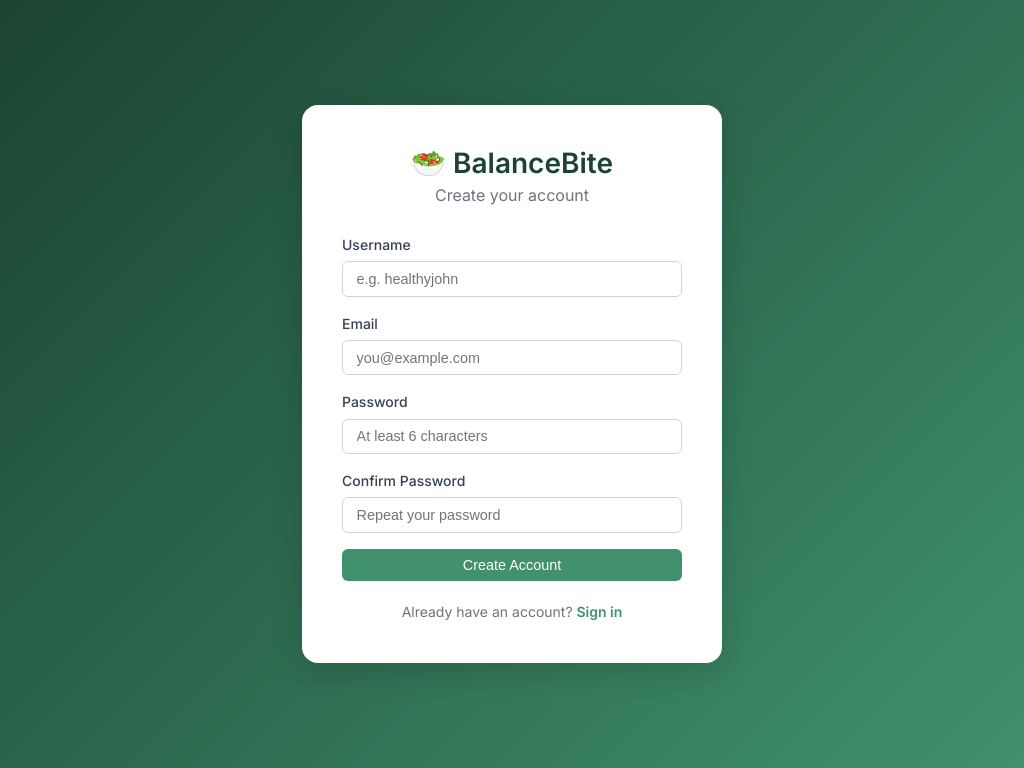
Test: SignUp page › shows an error when username is too short
The image size is (1024, 768).
Type "a" into the field labelled "Username" at x=512, y=279, box [342,261,682,297]
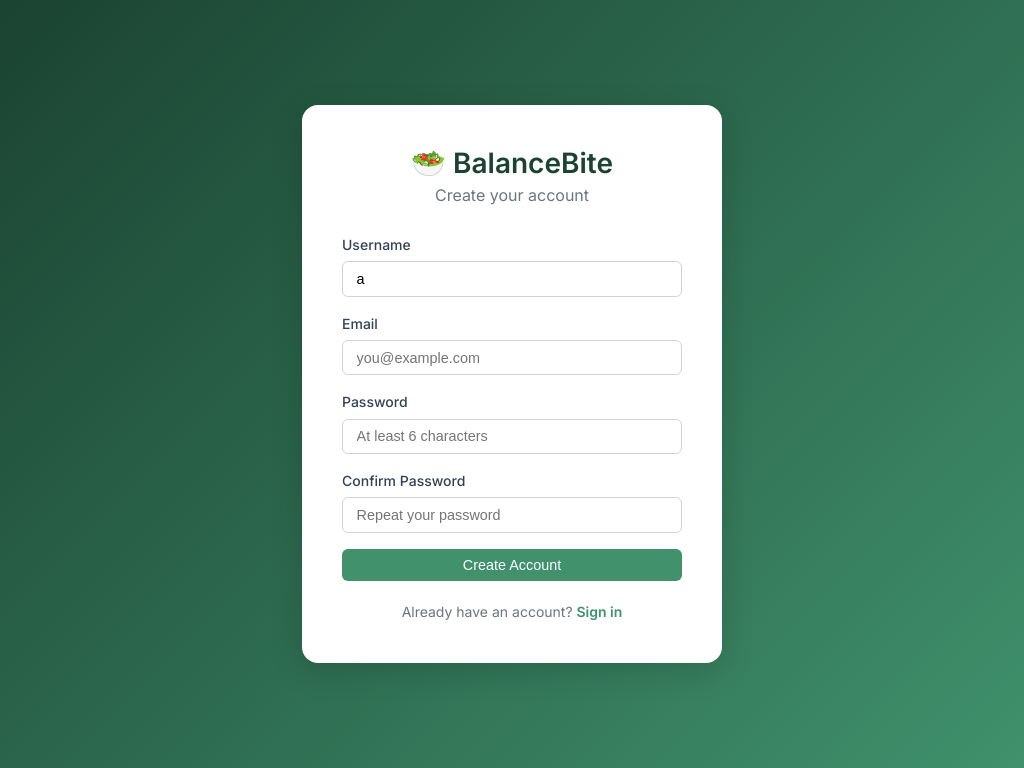
Type "user@test.com" into the field labelled "Email" at x=512, y=358, box [342,340,682,375]
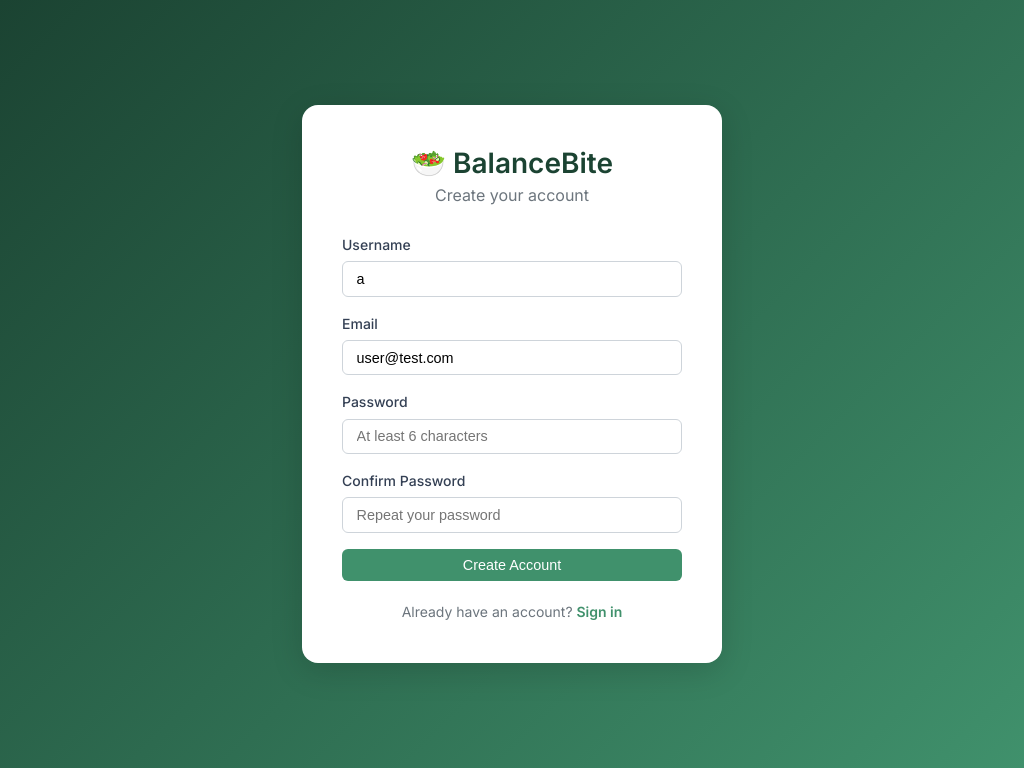
Type "password1" into the password field labelled "Password" at x=512, y=436, box [342,419,682,454]
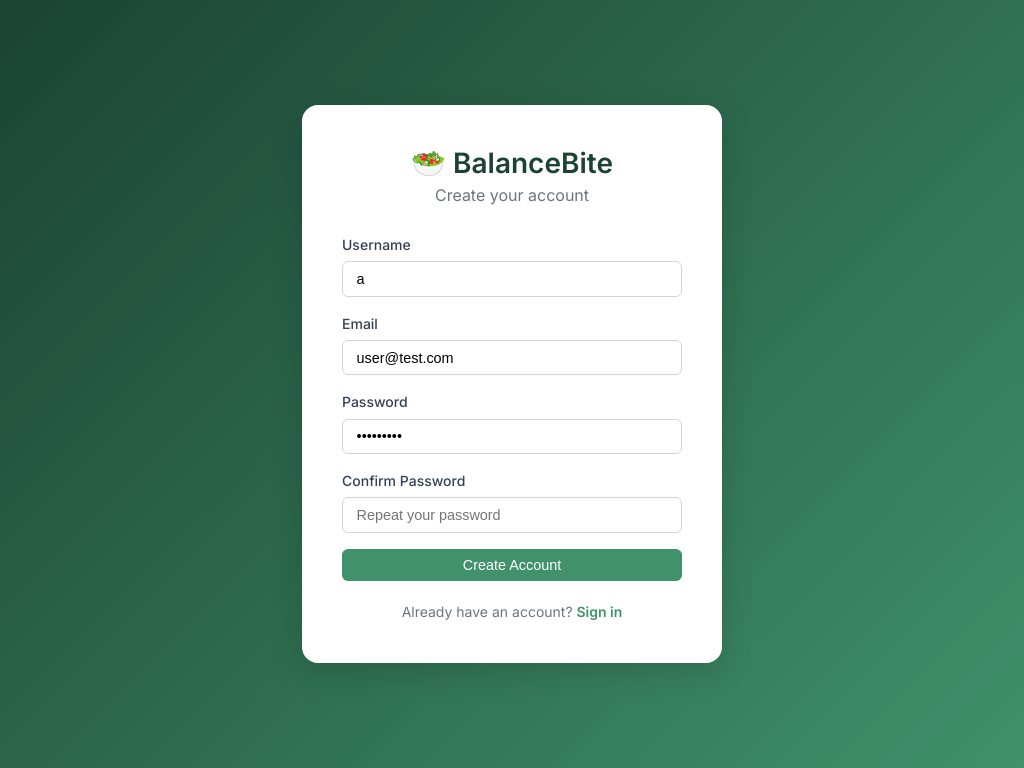
Type "password1" into the password field labelled "Confirm Password" at x=512, y=515, box [342,497,682,533]
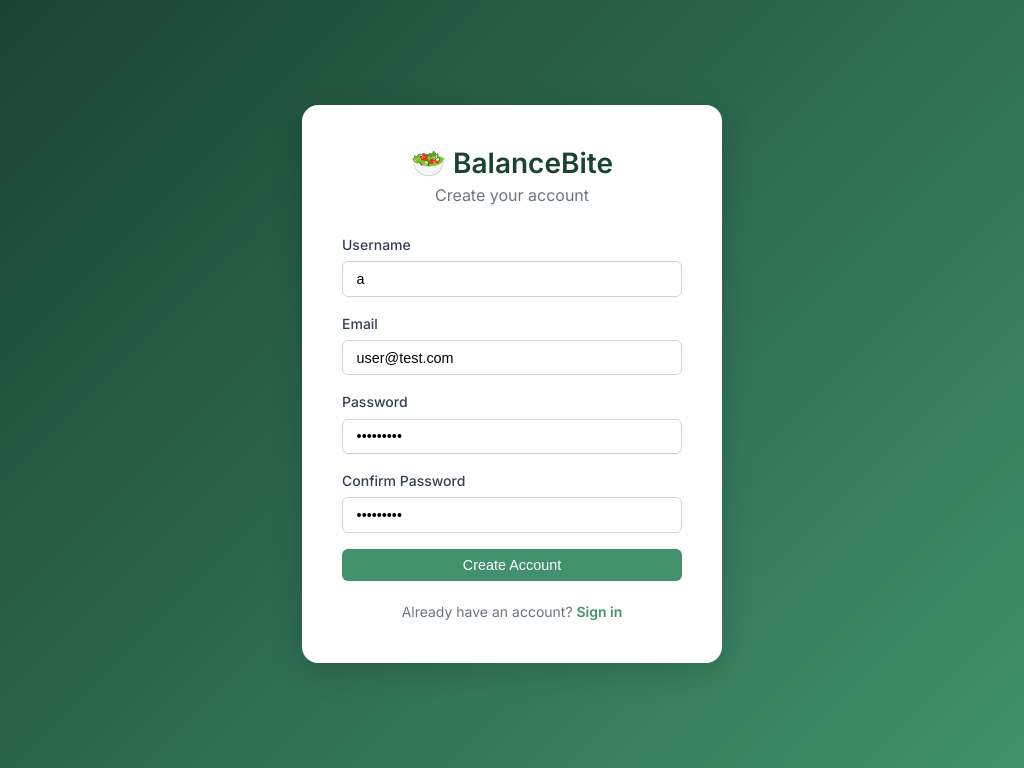
Click the button "Create Account" at x=512, y=565, box [342,549,682,581]
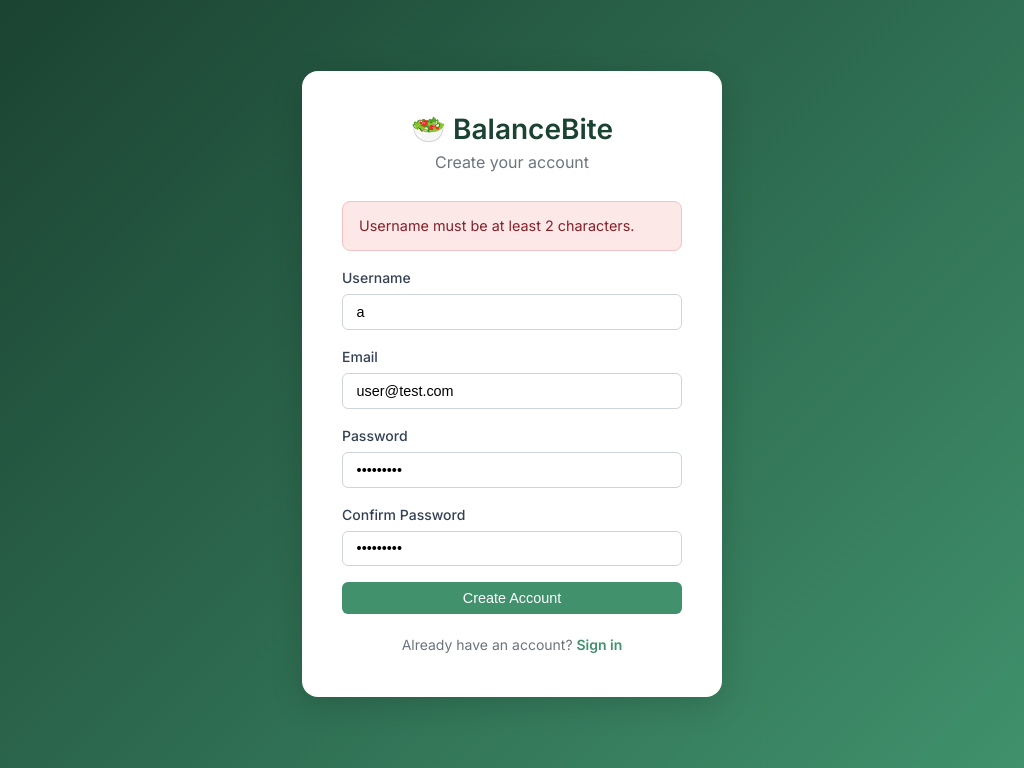
expect the message shows "at least 2 characters": met, box [359,217,634,234]
